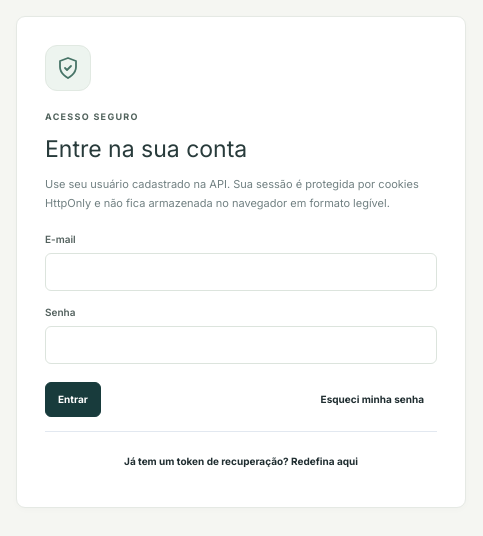
it: <LoginPanel /> › switches to password recovery mode and requests reset instructions
Click the button "Esqueci minha senha".
click(372, 400)  # box [308,382,437,417]
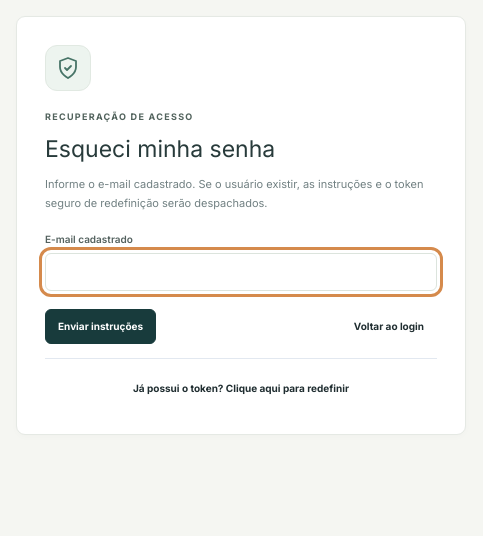
Check: the heading "Esqueci minha senha" is shown, box [45,134,275,162]
Type "operador@local.test" into the field labelled "E-mail cadastrado".
click(241, 272); type("operador@local.test")  # box [45,253,437,291]
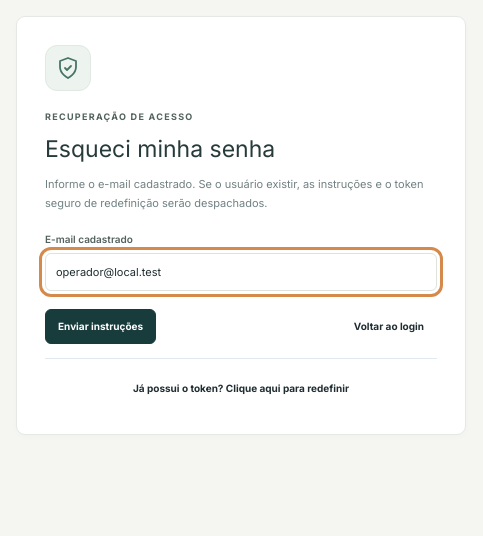
Click the button "Enviar instruções".
click(101, 327)  # box [45,309,156,344]
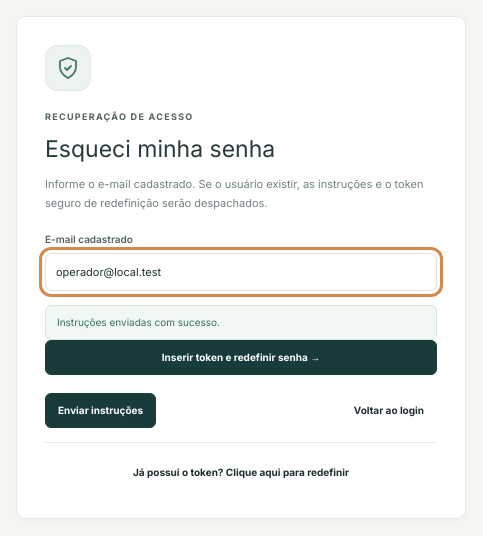
Check: the text "Instruções enviadas com sucesso." is shown, box [45,305,437,340]
